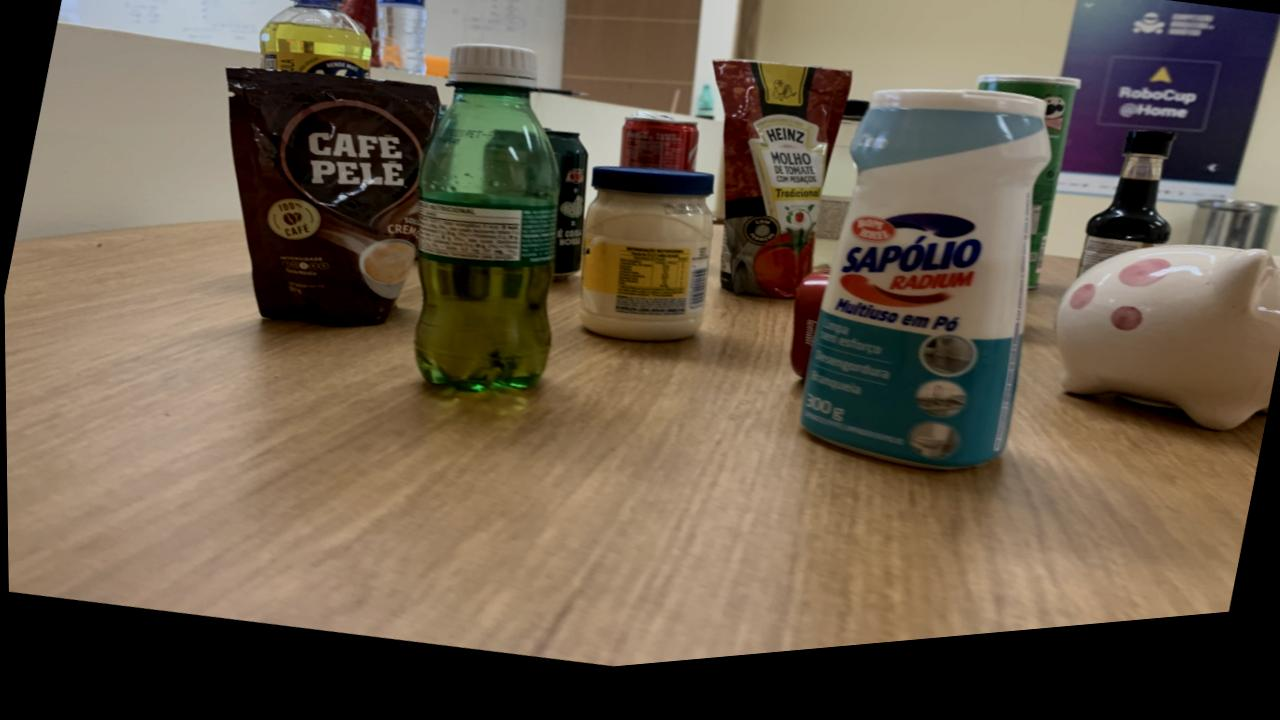Cleaner-Cleanup_Items: (798, 106, 1049, 488)
Coffee-Pantry_Items: (225, 72, 439, 333)
Coke-Drinks: (618, 123, 698, 184)
Detergent-Cleanup_Items: (258, 0, 371, 85)
English_Sauce-Pantry_Items: (1077, 151, 1175, 295)
Guarana-Drinks: (412, 53, 559, 400)
Guarana_Can-Drinks: (545, 141, 588, 289)
Mayonnaise-Pantry_Items: (578, 178, 712, 354)
Pig_Safe-Miscellaneous: (1053, 267, 1280, 453)
Pringles-Snacks: (976, 93, 1079, 309)
Tomato_Sauce-Pantry_Items: (711, 73, 852, 313), (340, 0, 378, 45)
Tuna_Can-Pantry_Items: (788, 285, 829, 393)
Water_Bottle-Drinks: (375, 0, 426, 82)
